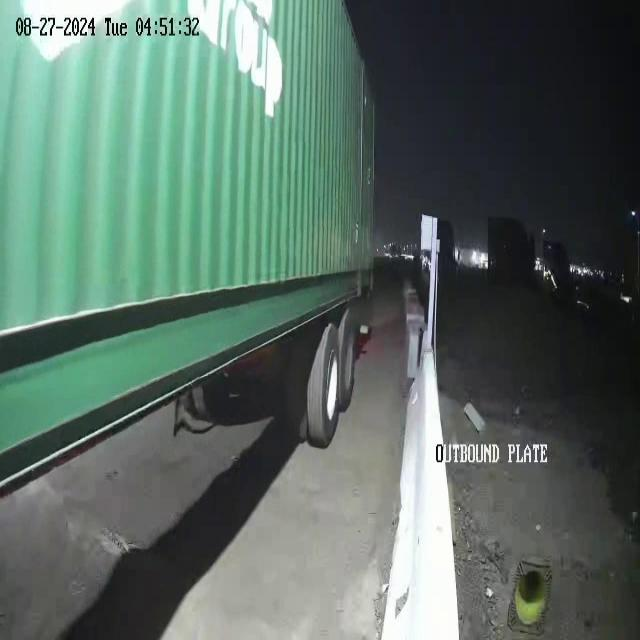TRUCK_CONTAINER: (0, 0, 376, 493)
